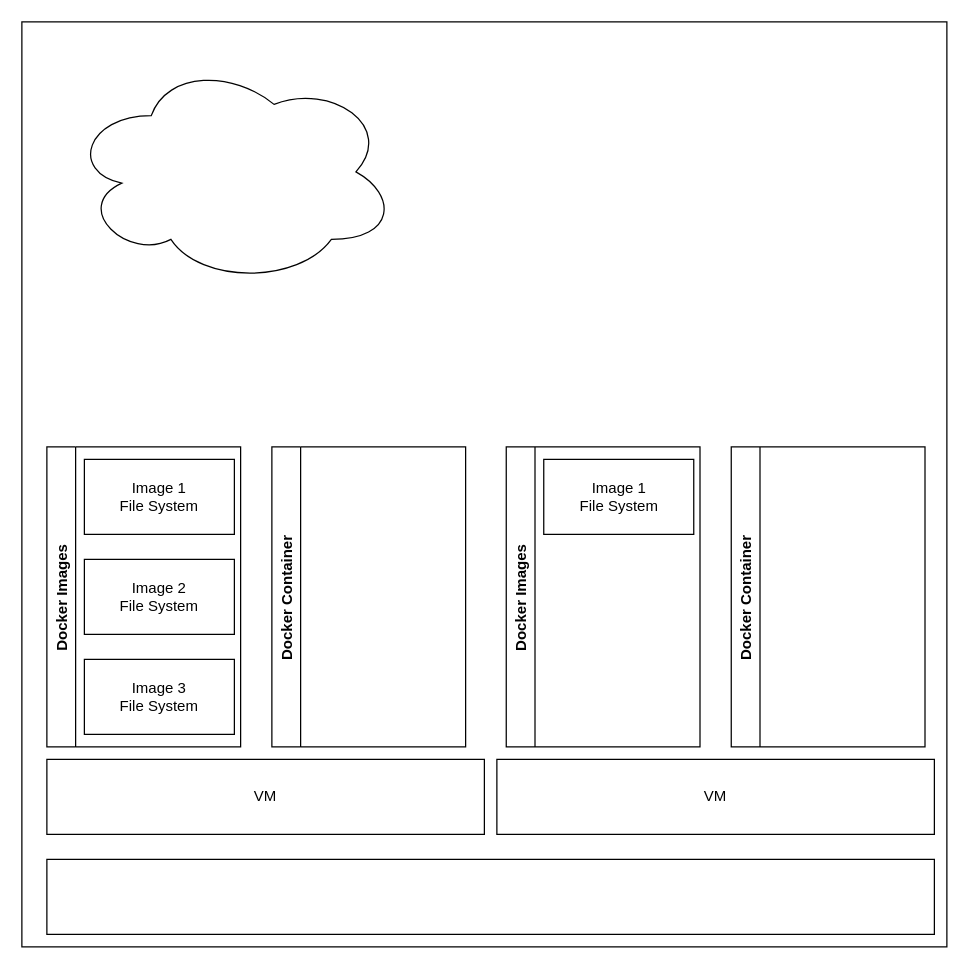
Image size: 969x969. Some labels were removed from this diagram. The centre of each missing label's shape, as x and y in pixels:
Docker Hub: the point at 232,171
Physical Infrastructure: the point at 490,896
